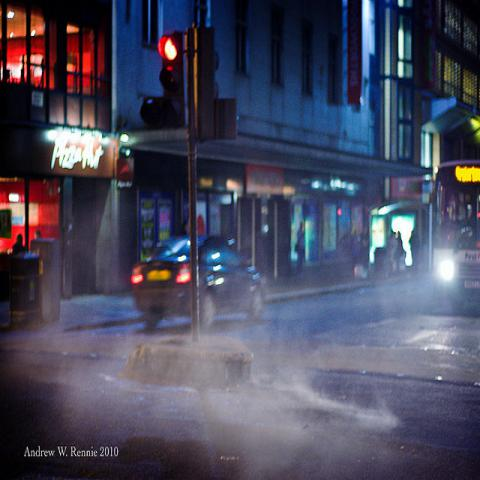bus: (434, 160, 480, 313)
car: (132, 234, 268, 337)
